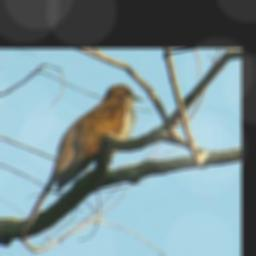Cuckoo: (53, 83, 144, 193)
